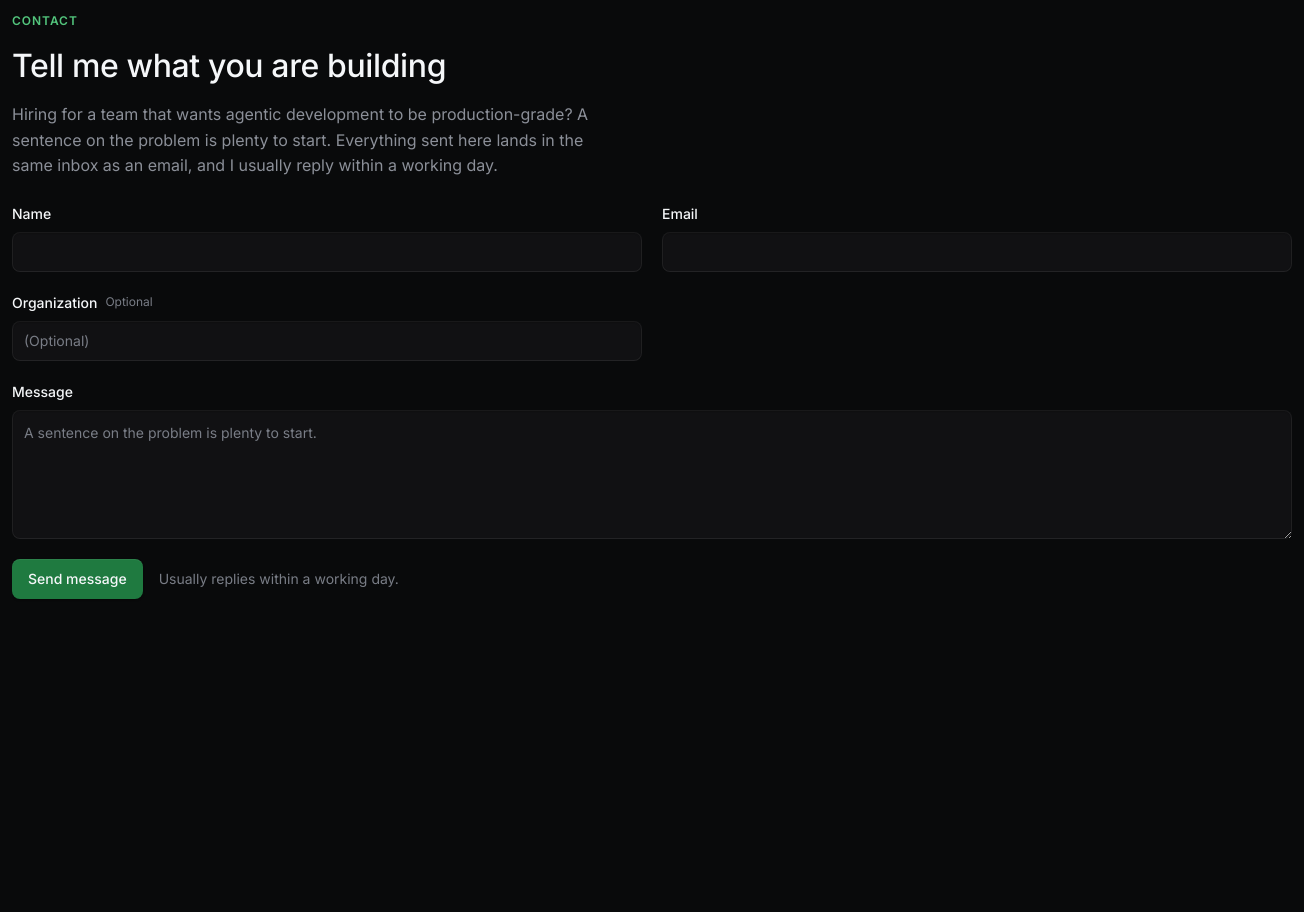
Test: ContactForm › renders an inline error and preserves input when the request fails
In the field labelled "Name": coordinates (327, 252) [12,232,642,272], type "Test McLovin"
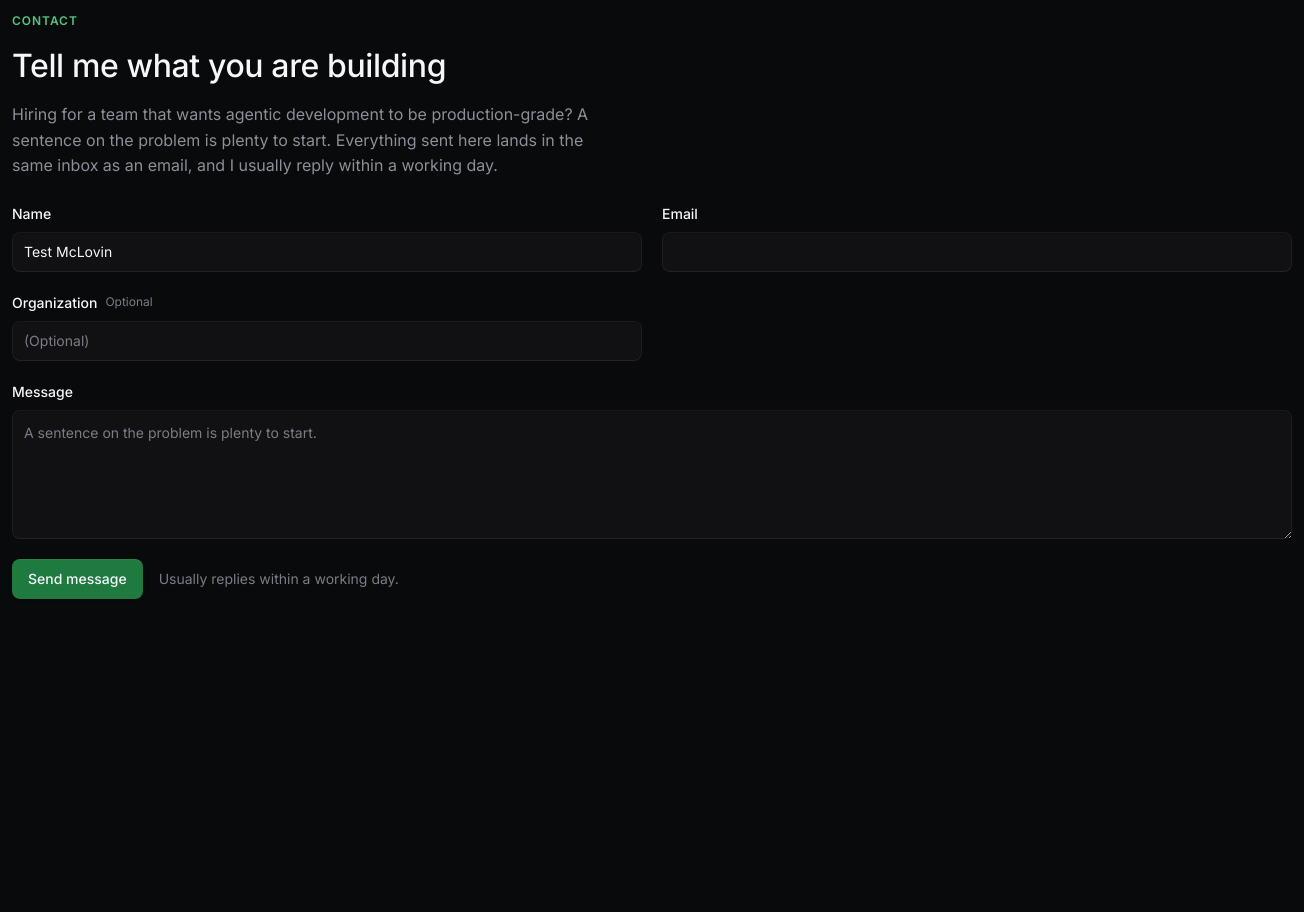
In the field labelled "Email": coordinates (977, 252) [662,232,1292,272], type "test@example.com"
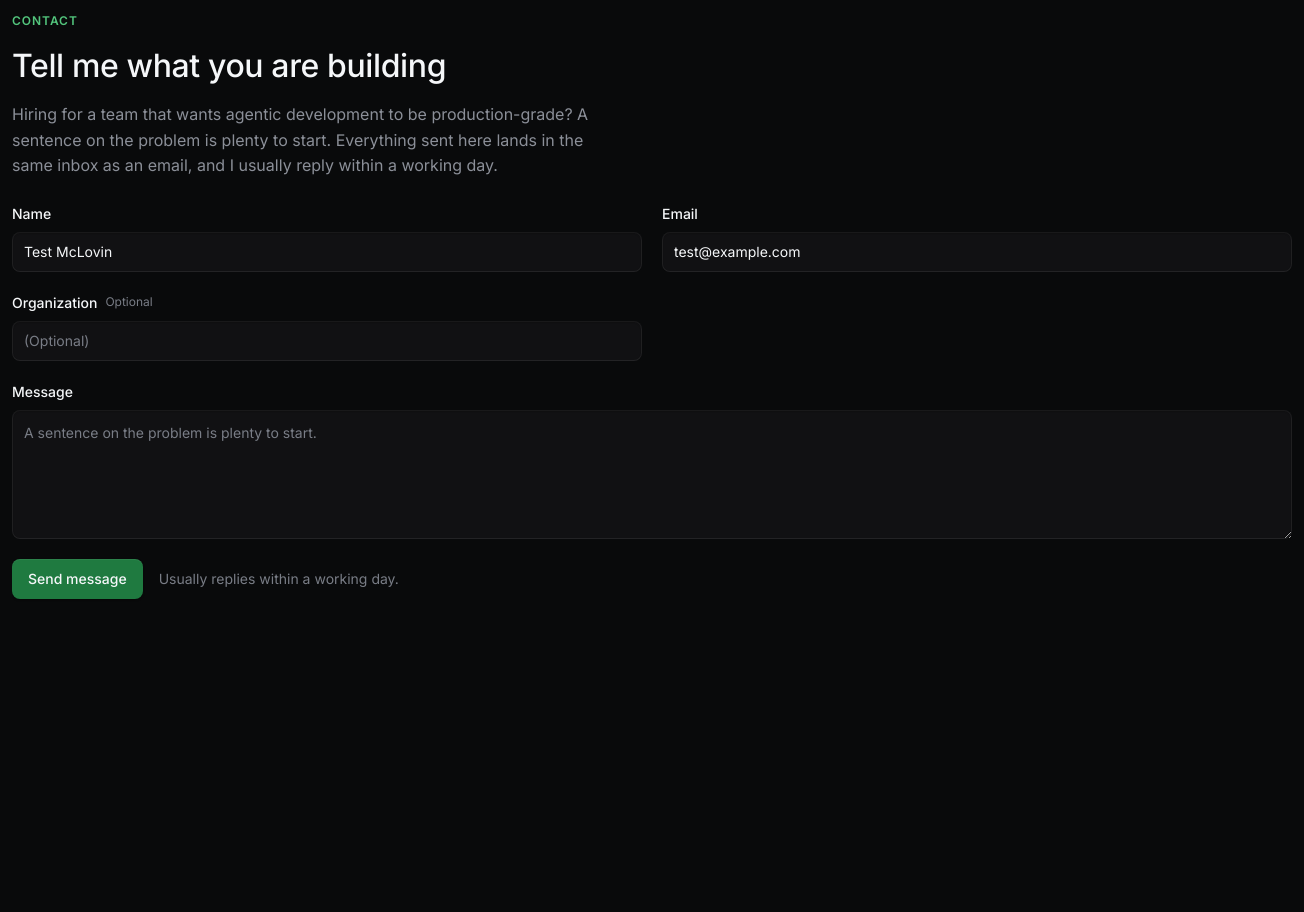
In the field labelled "Organization Optional": coordinates (327, 341) [12,321,642,361], type "Acme Logistics"
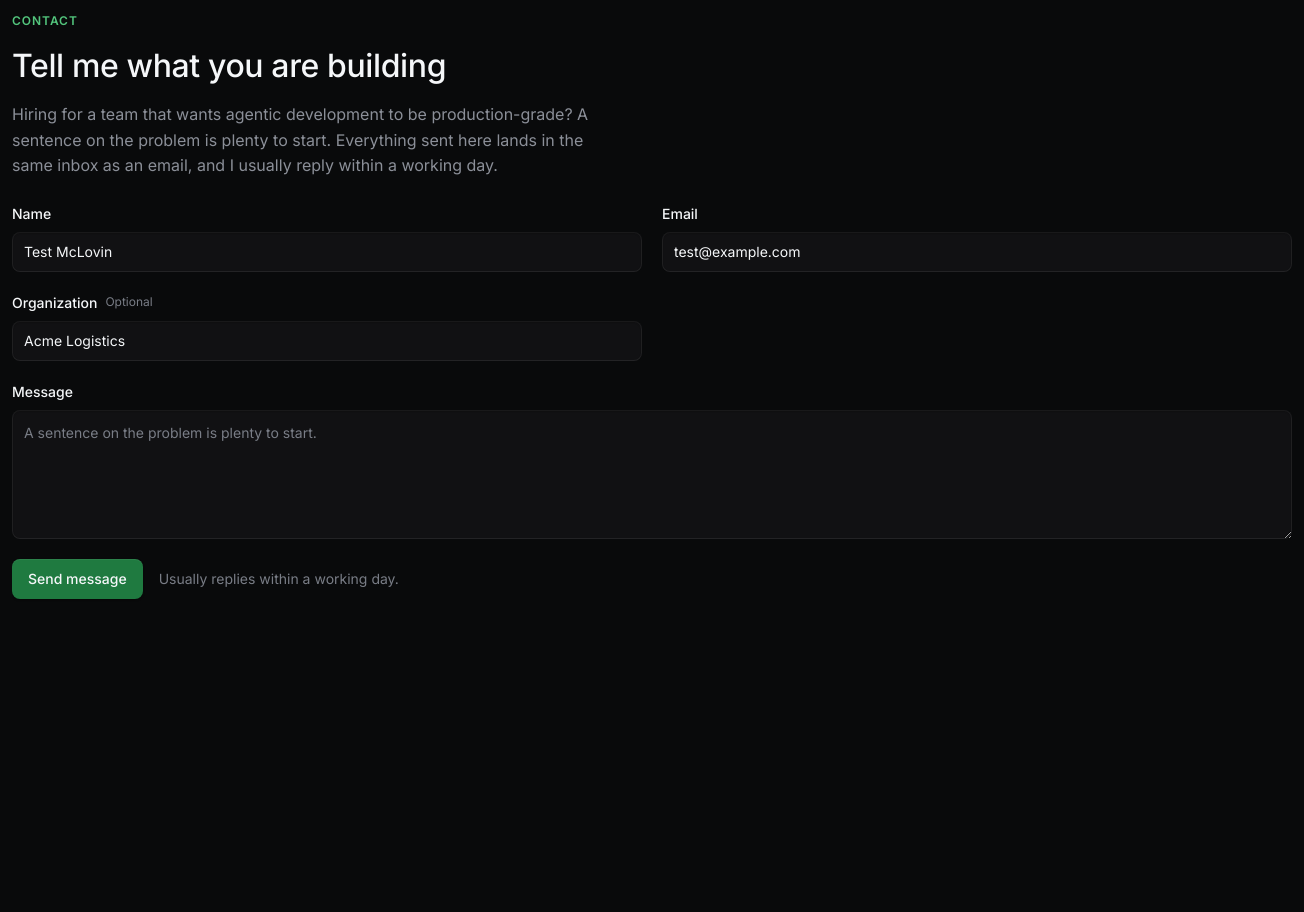
In the text box labelled "Message": coordinates (652, 474) [12,410,1292,539], type "Hello, this is a test message."
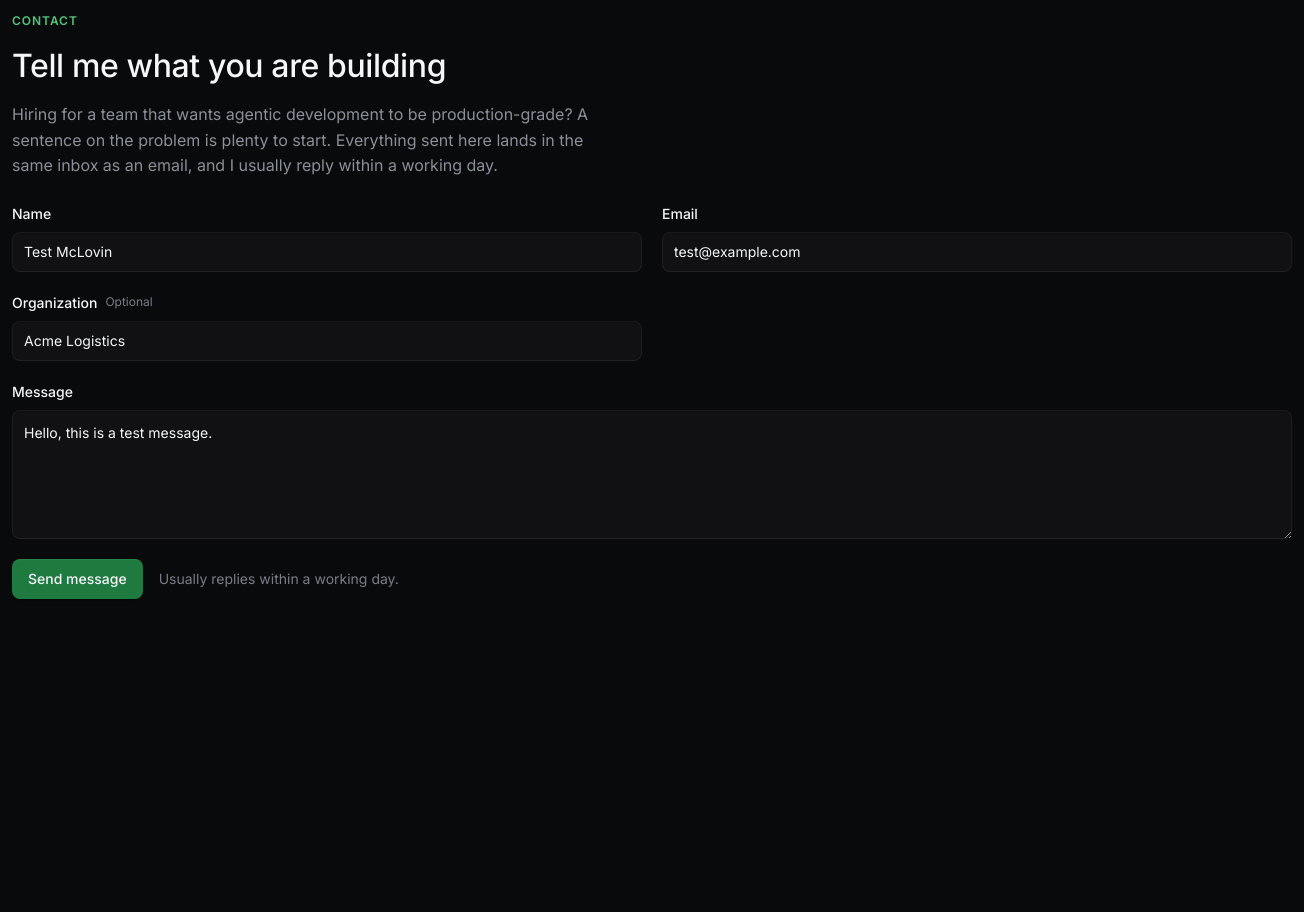
Click the button "Send message": coordinates (77, 579) [12,559,143,599]
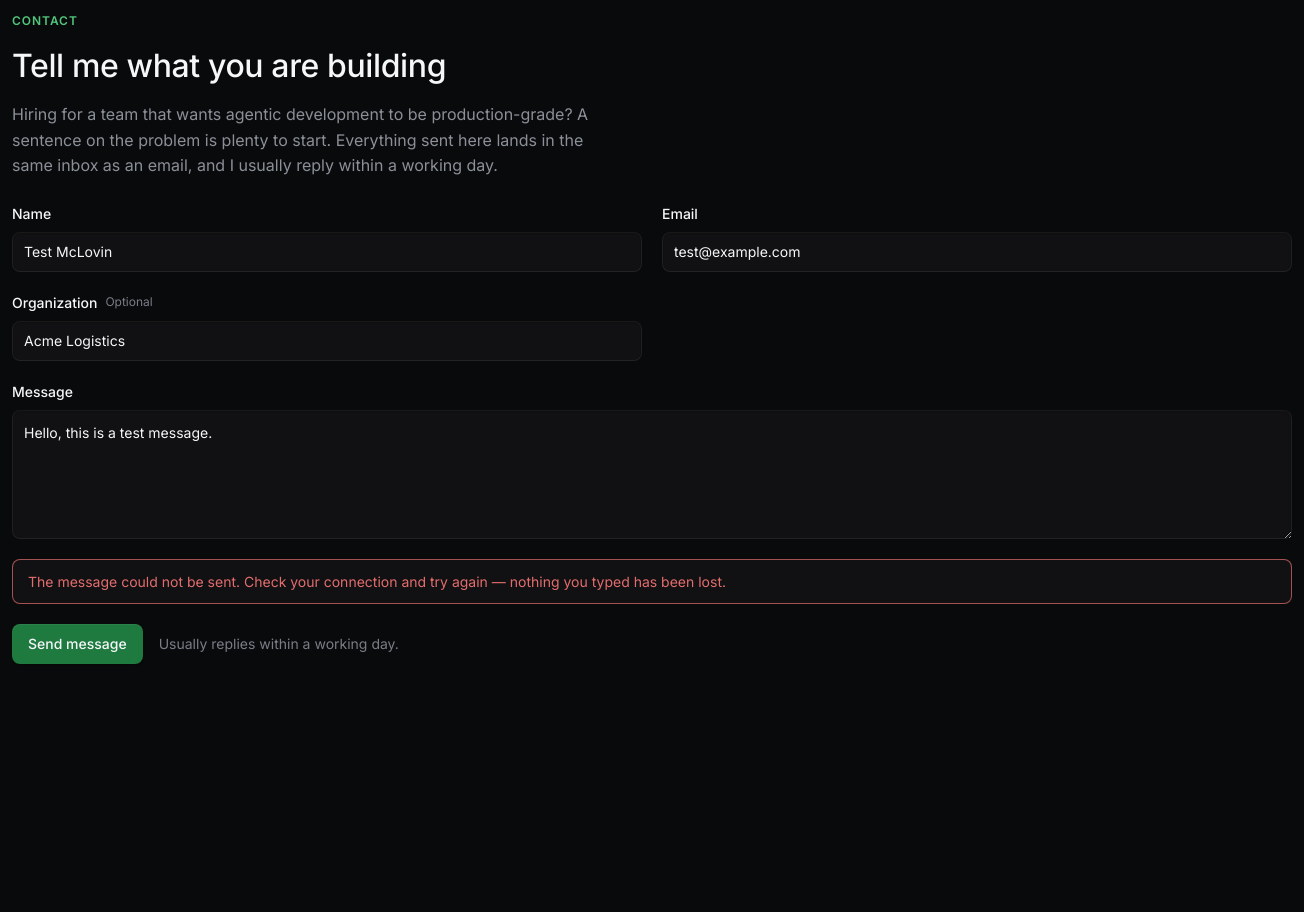
Result: the message with test id "contact-form-error-submit" is shown at [12,559,1292,604]
